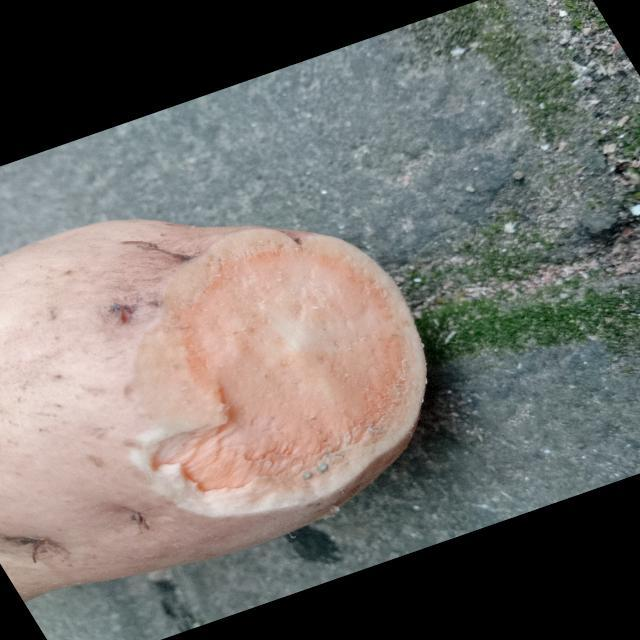Healthy Sweet Potato: (132, 229, 425, 516)
